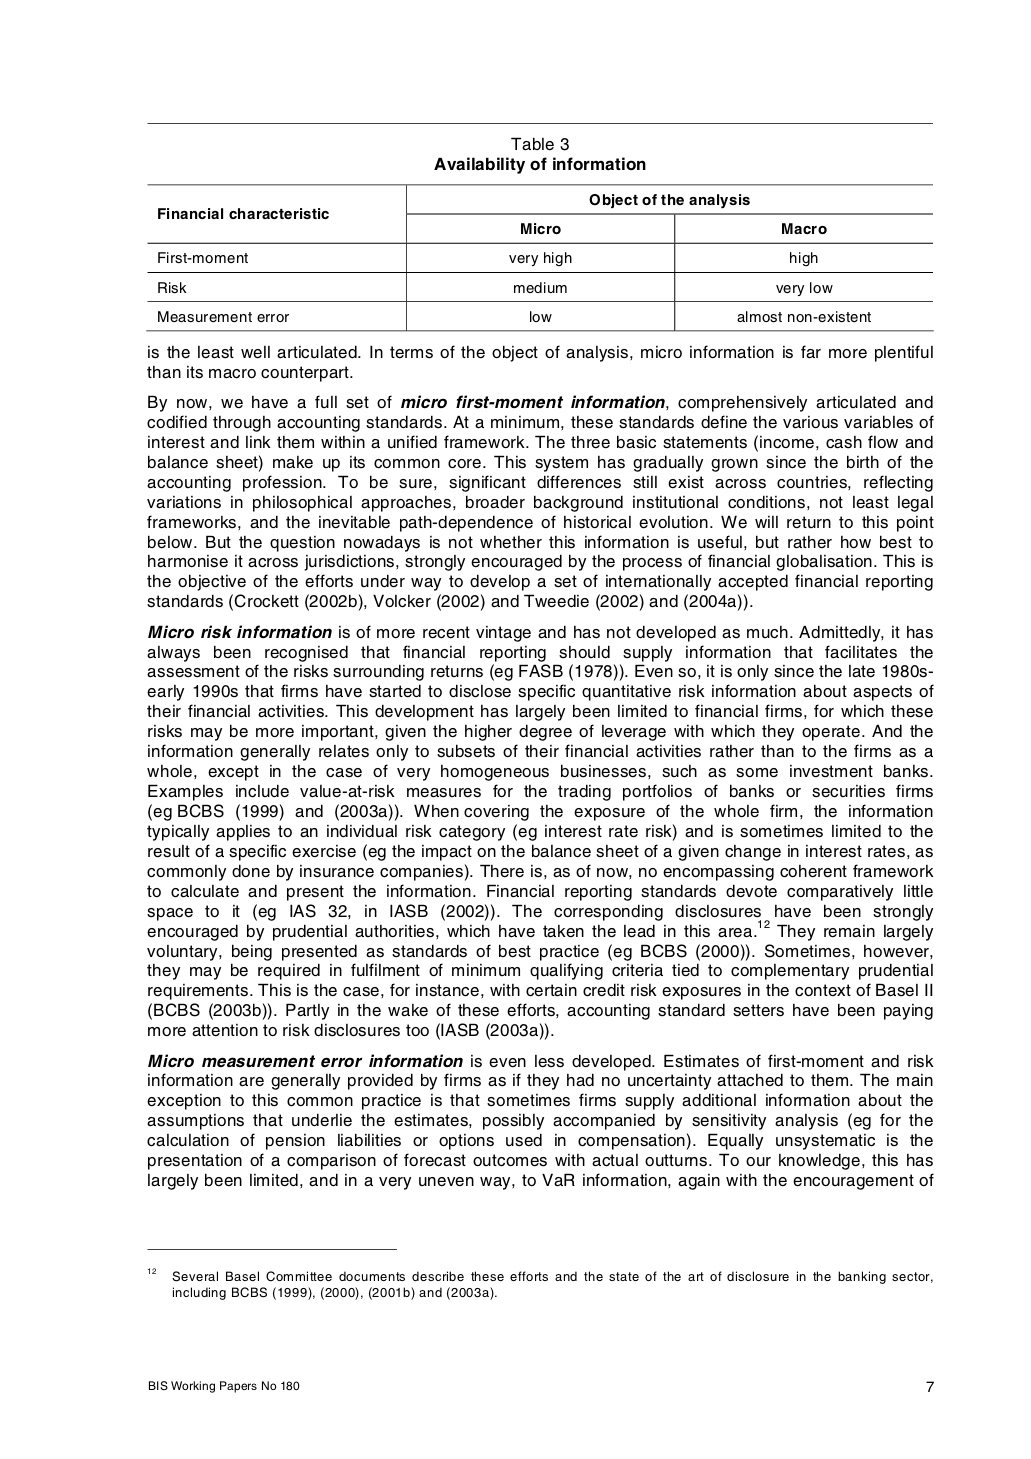Table: (146, 184, 933, 331)
